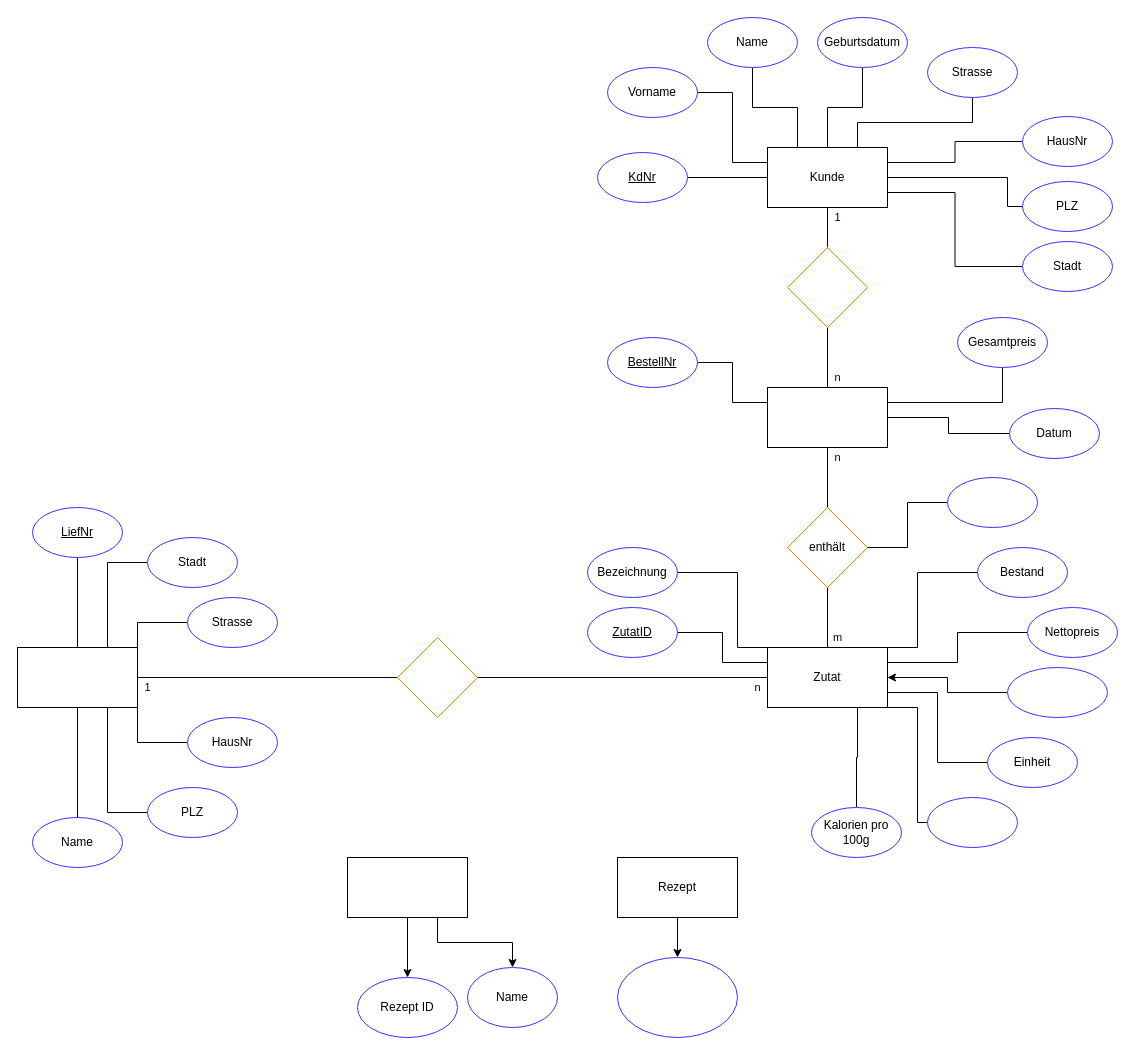
Image size: 1135x1055. Some labels were removed from this diagram. The shapes that lost their labels are listed below. From the top down, each one's box as (x1, y1, x2, y2) in pixels, then its label:
(786, 246, 868, 328): tätigt
(766, 386, 888, 448): Bestellung
(946, 476, 1038, 528): Menge
(16, 646, 138, 708): Lieferant
(396, 636, 478, 718): liefert
(1006, 666, 1108, 718): Fett pro 100g
(926, 796, 1018, 848): Kohlenhydrate pro 100g
(346, 856, 468, 918): Rezepte
(616, 956, 738, 1038): Zutaten (Fremdschlüssel)
